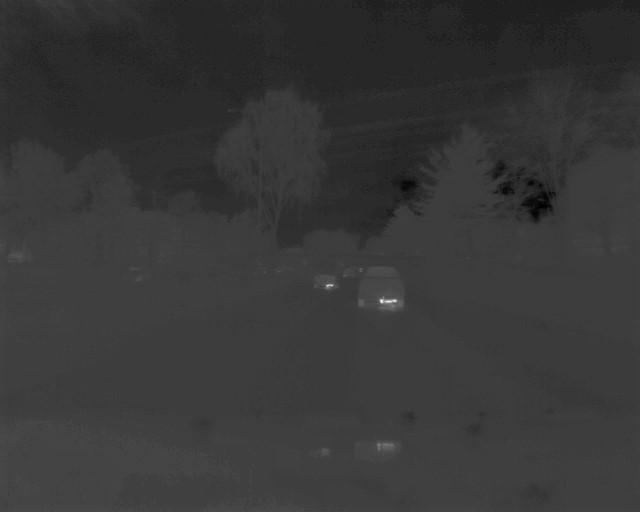car: (355, 266, 405, 311)
